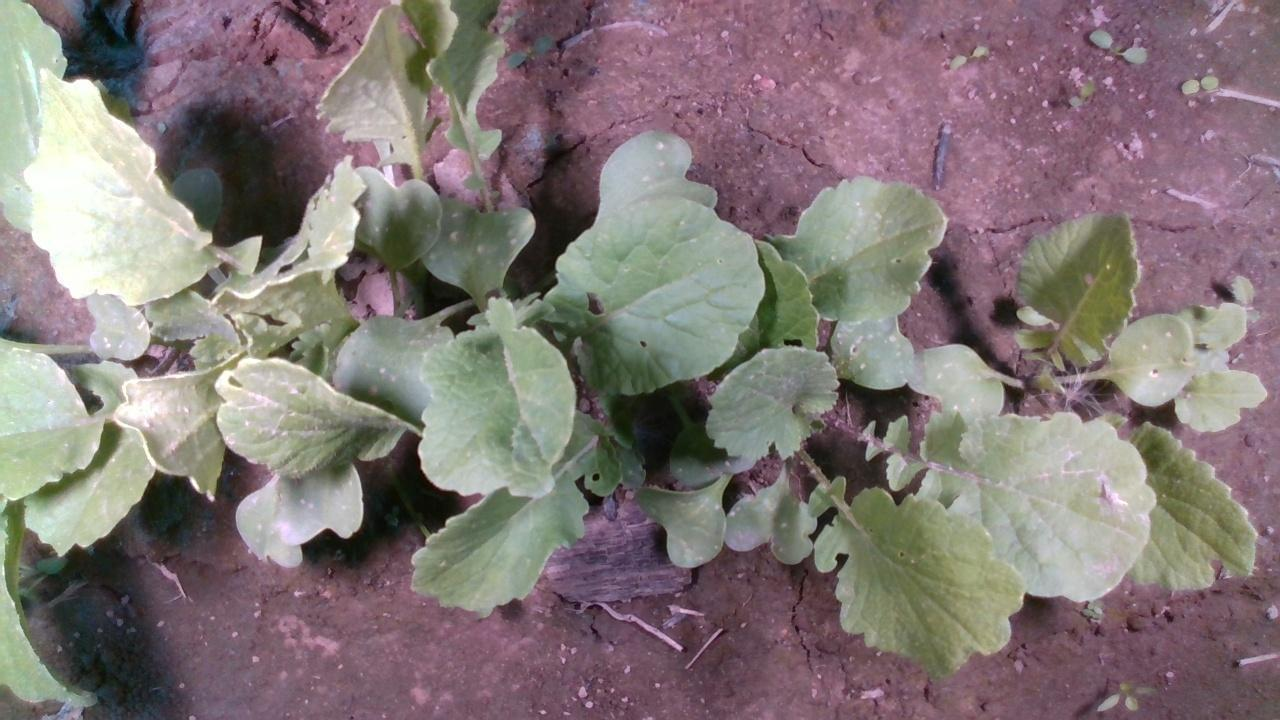weed: (1088, 28, 1149, 62), (1094, 679, 1157, 711), (946, 43, 989, 70), (1066, 75, 1097, 110), (1179, 74, 1220, 94)
